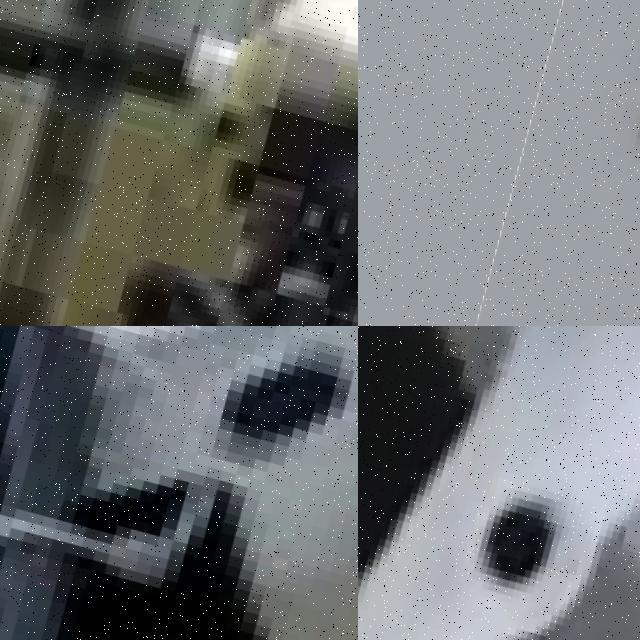drone: (0, 0, 358, 326), (0, 326, 358, 640), (358, 326, 640, 640), (477, 0, 640, 326)
